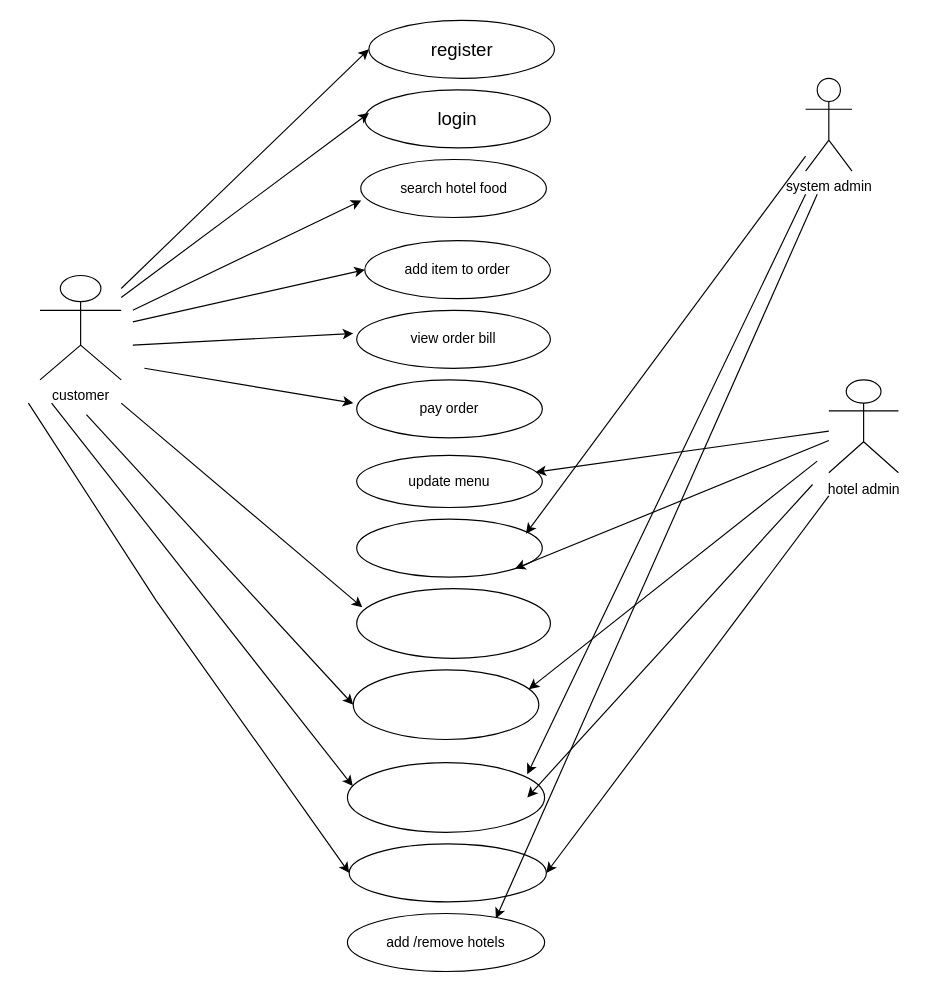
Some shapes in this 936 by 992 pixel diagram are drawn without their labels. Each missing label, with the centre of its shape:
"cancel order" belongs at (x=453, y=623).
"history of orders" belongs at (x=447, y=872).
"recieve notifications" belongs at (x=445, y=797).
"sales" belongs at (x=449, y=547).
"track order" belongs at (x=445, y=704).
